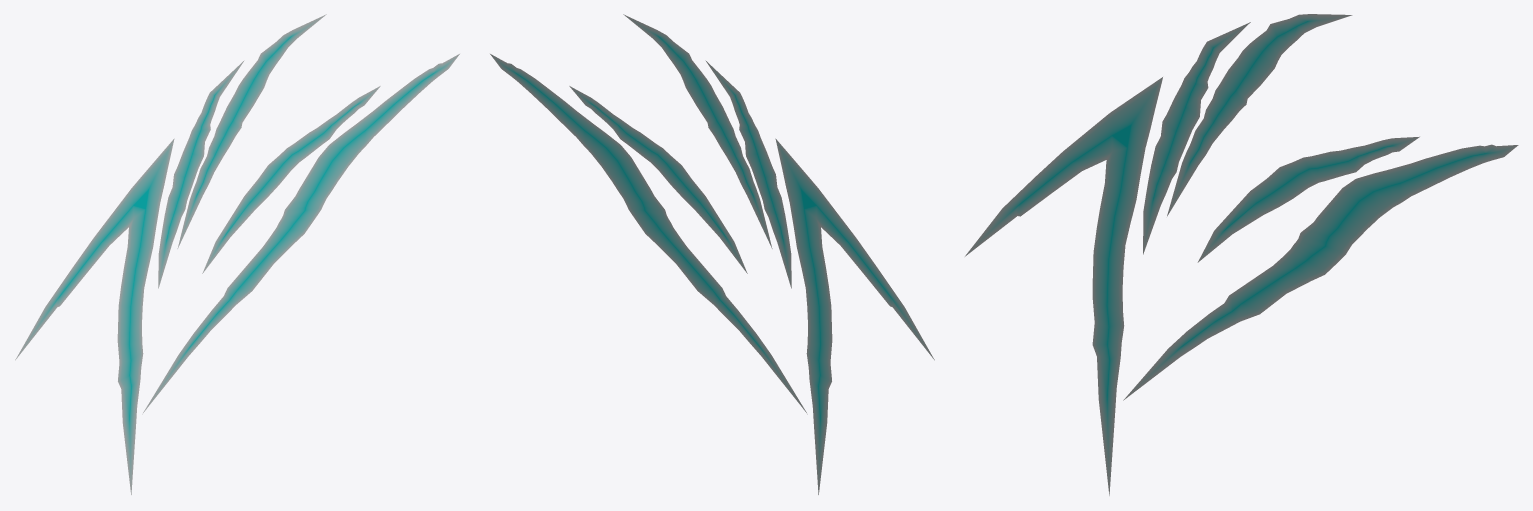
Rendered from SM_EFF_Text_D52NJ2_01.glb.
3 views of the same model, side by side, from view 1: azimuth 30°, elevation 25°; view 2: azimuth 150°, elevation 25°; view 3: azimuth 330°, elevation 25° (orthographic). The views are drawn at different scales.
Parts seen in each view (by area): view 1: SM_EFF_Text_D52NJ2_01; view 2: SM_EFF_Text_D52NJ2_01; view 3: SM_EFF_Text_D52NJ2_01.
Boxes of the visible parts, x1,y1,x2,y2 form: SM_EFF_Text_D52NJ2_01: [15, 14, 459, 494]; SM_EFF_Text_D52NJ2_01: [490, 14, 934, 494]; SM_EFF_Text_D52NJ2_01: [965, 14, 1518, 495].
Size of the model in its own units: 1.06 by 0.9856 by 6.03e-17.
